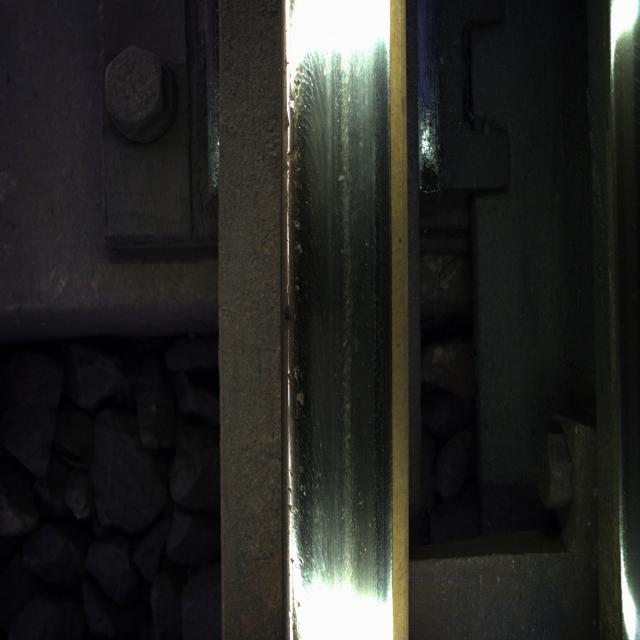normal: (286, 40, 384, 522)
